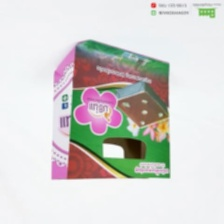snack: (43, 36, 176, 187)
